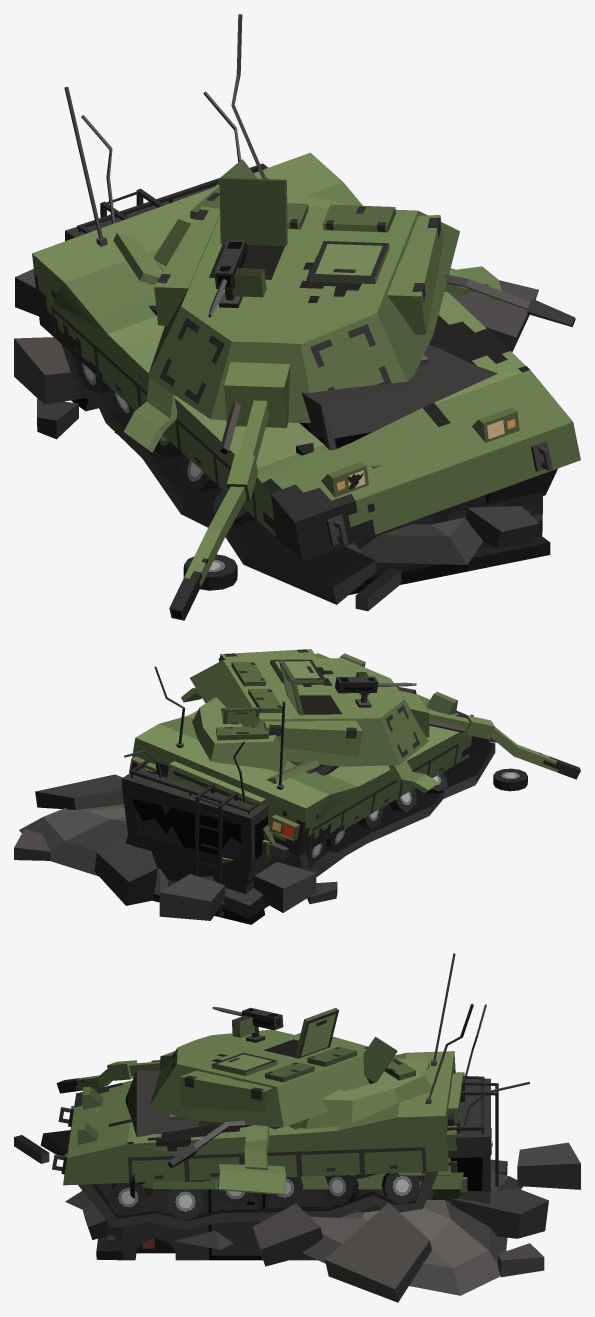
File: burntVehicles.gltf
The picture shows the model from 3 angles, top to bottom: view 1: azimuth 30°, elevation 25°; view 2: azimuth 150°, elevation 25°; view 3: azimuth 270°, elevation 25°; orthographic projection. The views are drawn at different scales.
Visible parts, largest first — view 1: SA_Prop_BrokenTank_01, SA_Prop_BurntBlack_RV_01, SA_Prop_BrokenAPC_01; view 2: SA_Prop_BrokenTank_01, SA_Prop_BurntBlack_RV_01, SA_Prop_BrokenAPC_01; view 3: SA_Prop_BrokenTank_01, SA_Prop_BurntBlack_RV_01, SA_Prop_BrokenAPC_01.
Boxes of the visible parts, left/top/right/bottom form: SA_Prop_BrokenTank_01: left=14, top=14, right=580, bottom=620; SA_Prop_BurntBlack_RV_01: left=65, top=163, right=550, bottom=594; SA_Prop_BrokenAPC_01: left=37, top=91, right=575, bottom=564; SA_Prop_BrokenTank_01: left=14, top=649, right=580, bottom=920; SA_Prop_BurntBlack_RV_01: left=122, top=686, right=416, bottom=924; SA_Prop_BrokenAPC_01: left=124, top=658, right=337, bottom=918; SA_Prop_BrokenTank_01: left=14, top=953, right=580, bottom=1302; SA_Prop_BurntBlack_RV_01: left=96, top=1070, right=498, bottom=1260; SA_Prop_BrokenAPC_01: left=65, top=1004, right=529, bottom=1249.
Size of the model in its own units: 0.1105 by 0.0618 by 0.1288.
Materials: 1 (1 with a texture image).
